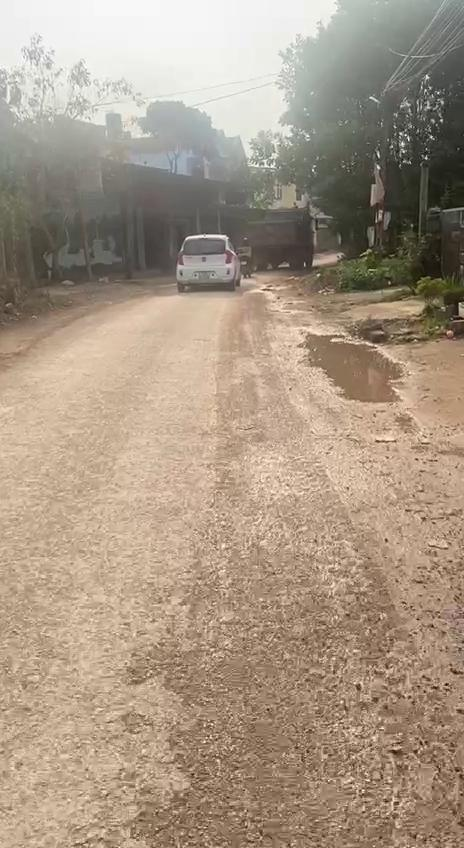pothole: (294, 327, 410, 408)
